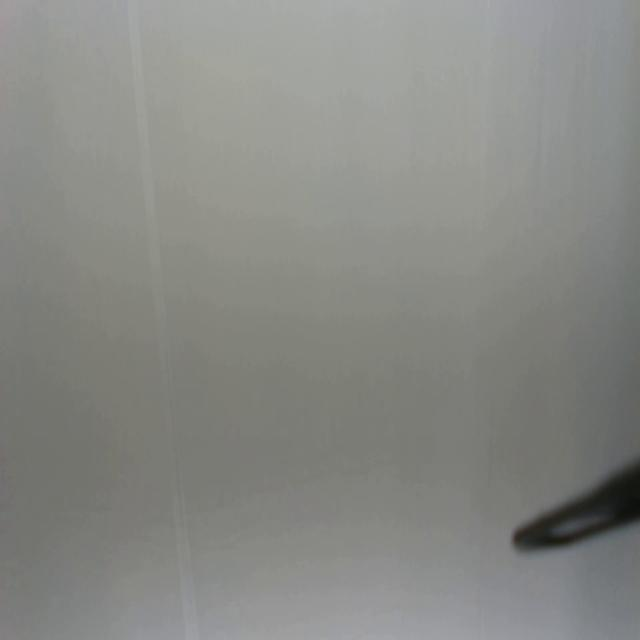crease: (126, 0, 198, 638)
